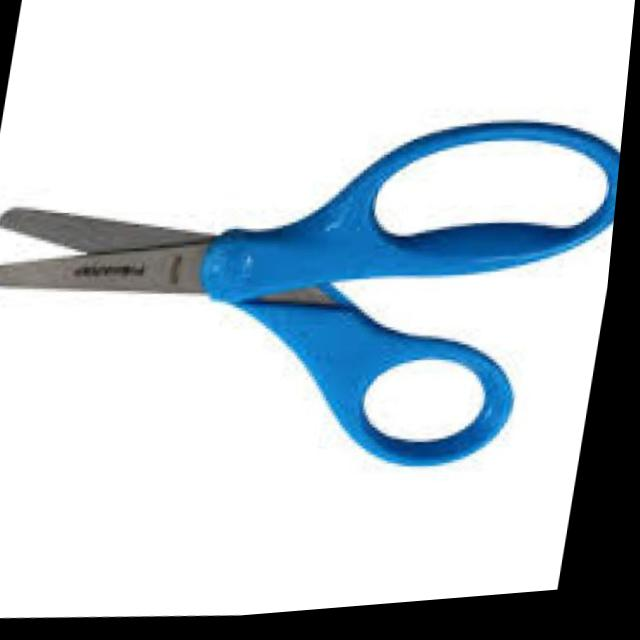scissor: (0, 84, 631, 519)
